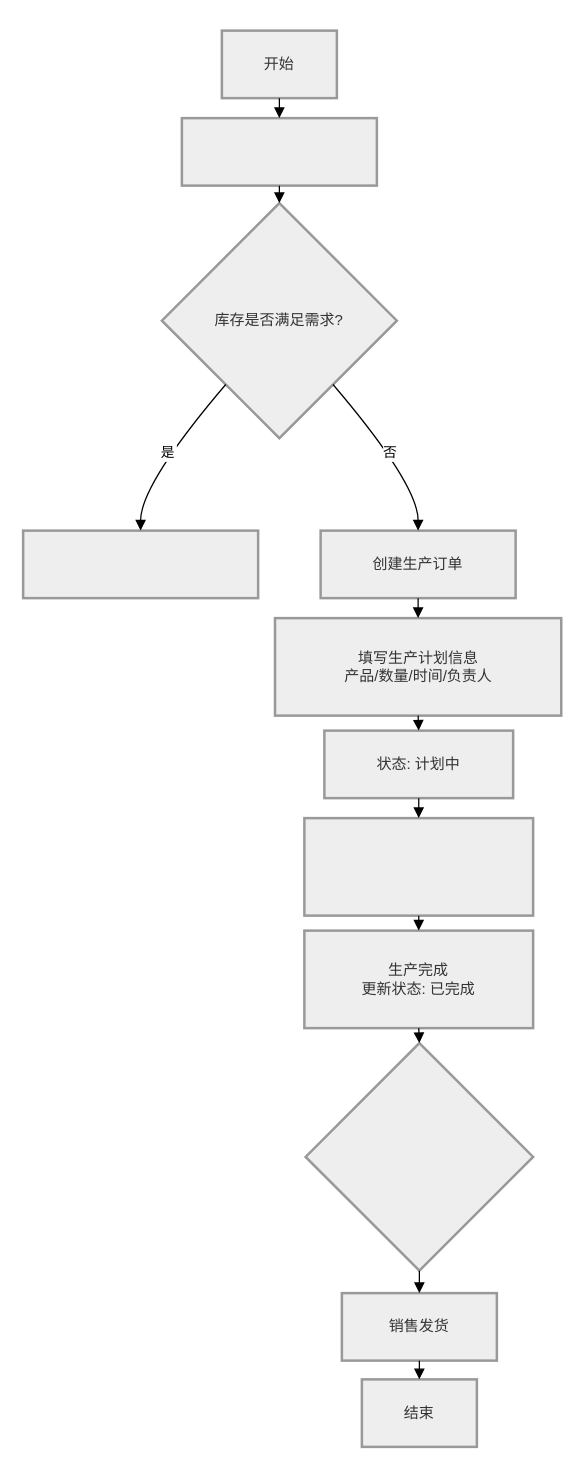
The diagram is 584 pixels wide and 1470 high, and some of its shapes have lost their labels. Each missing label, with the centre of its shape:
开始生产 更新状态: 生产中: (418,866)
查看产品库存: (279,151)
直接安排销售发货: (140,564)
自动增加产品库存: (419,1156)
